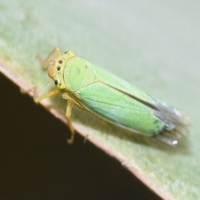insect: (36, 47, 187, 145)
